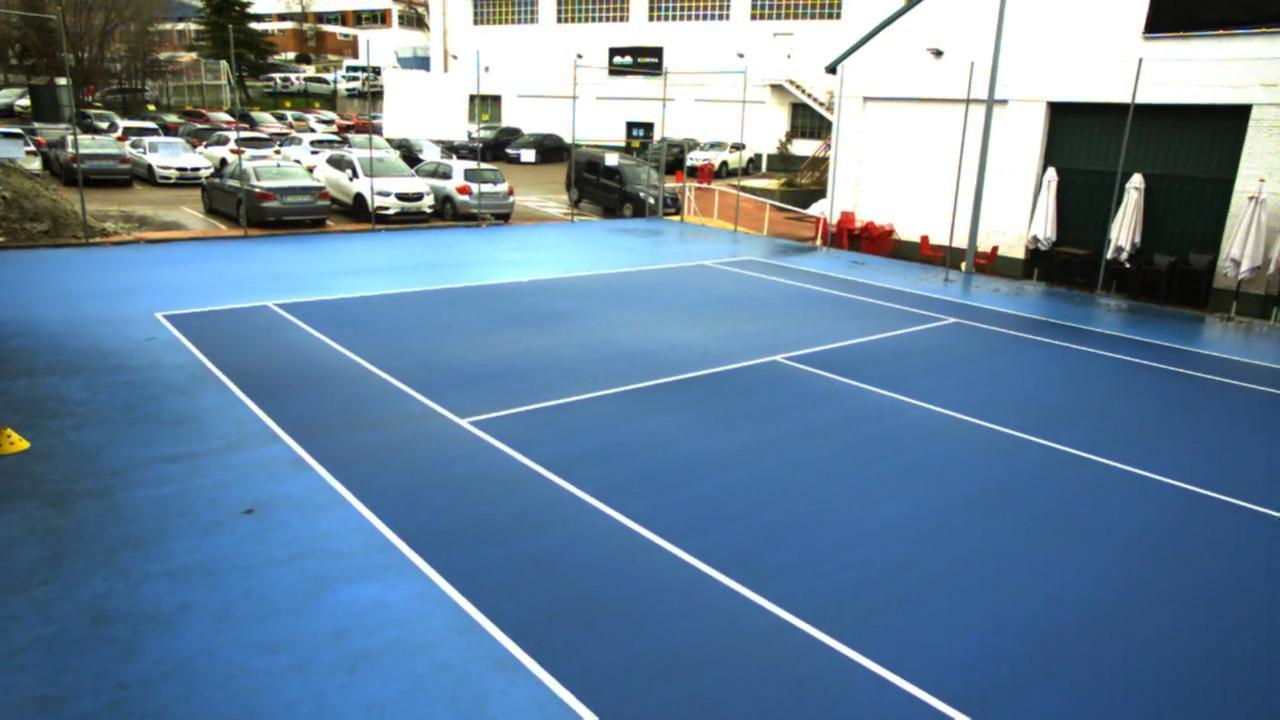cancha_tenis: (268, 262, 1280, 720)
point_f1: (259, 290, 290, 314)
point_f2: (690, 252, 726, 277)
point_fc1: (515, 273, 534, 287)
point_i1: (445, 409, 488, 436)
point_i2: (939, 307, 971, 332)
point_ic1: (765, 345, 800, 370)
